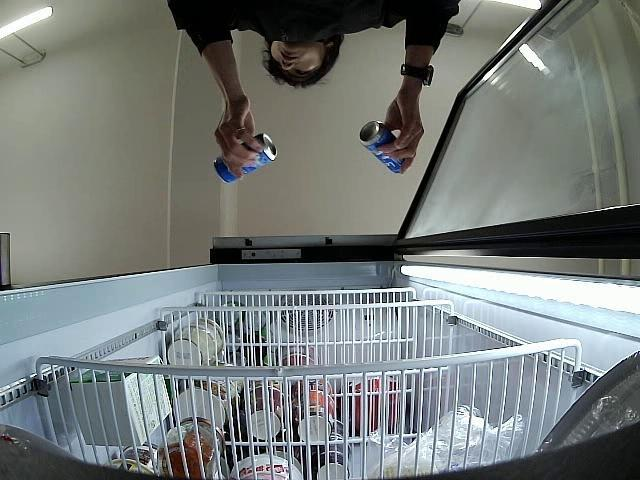15_letsbe: (215, 134, 278, 182), (360, 120, 403, 171)
